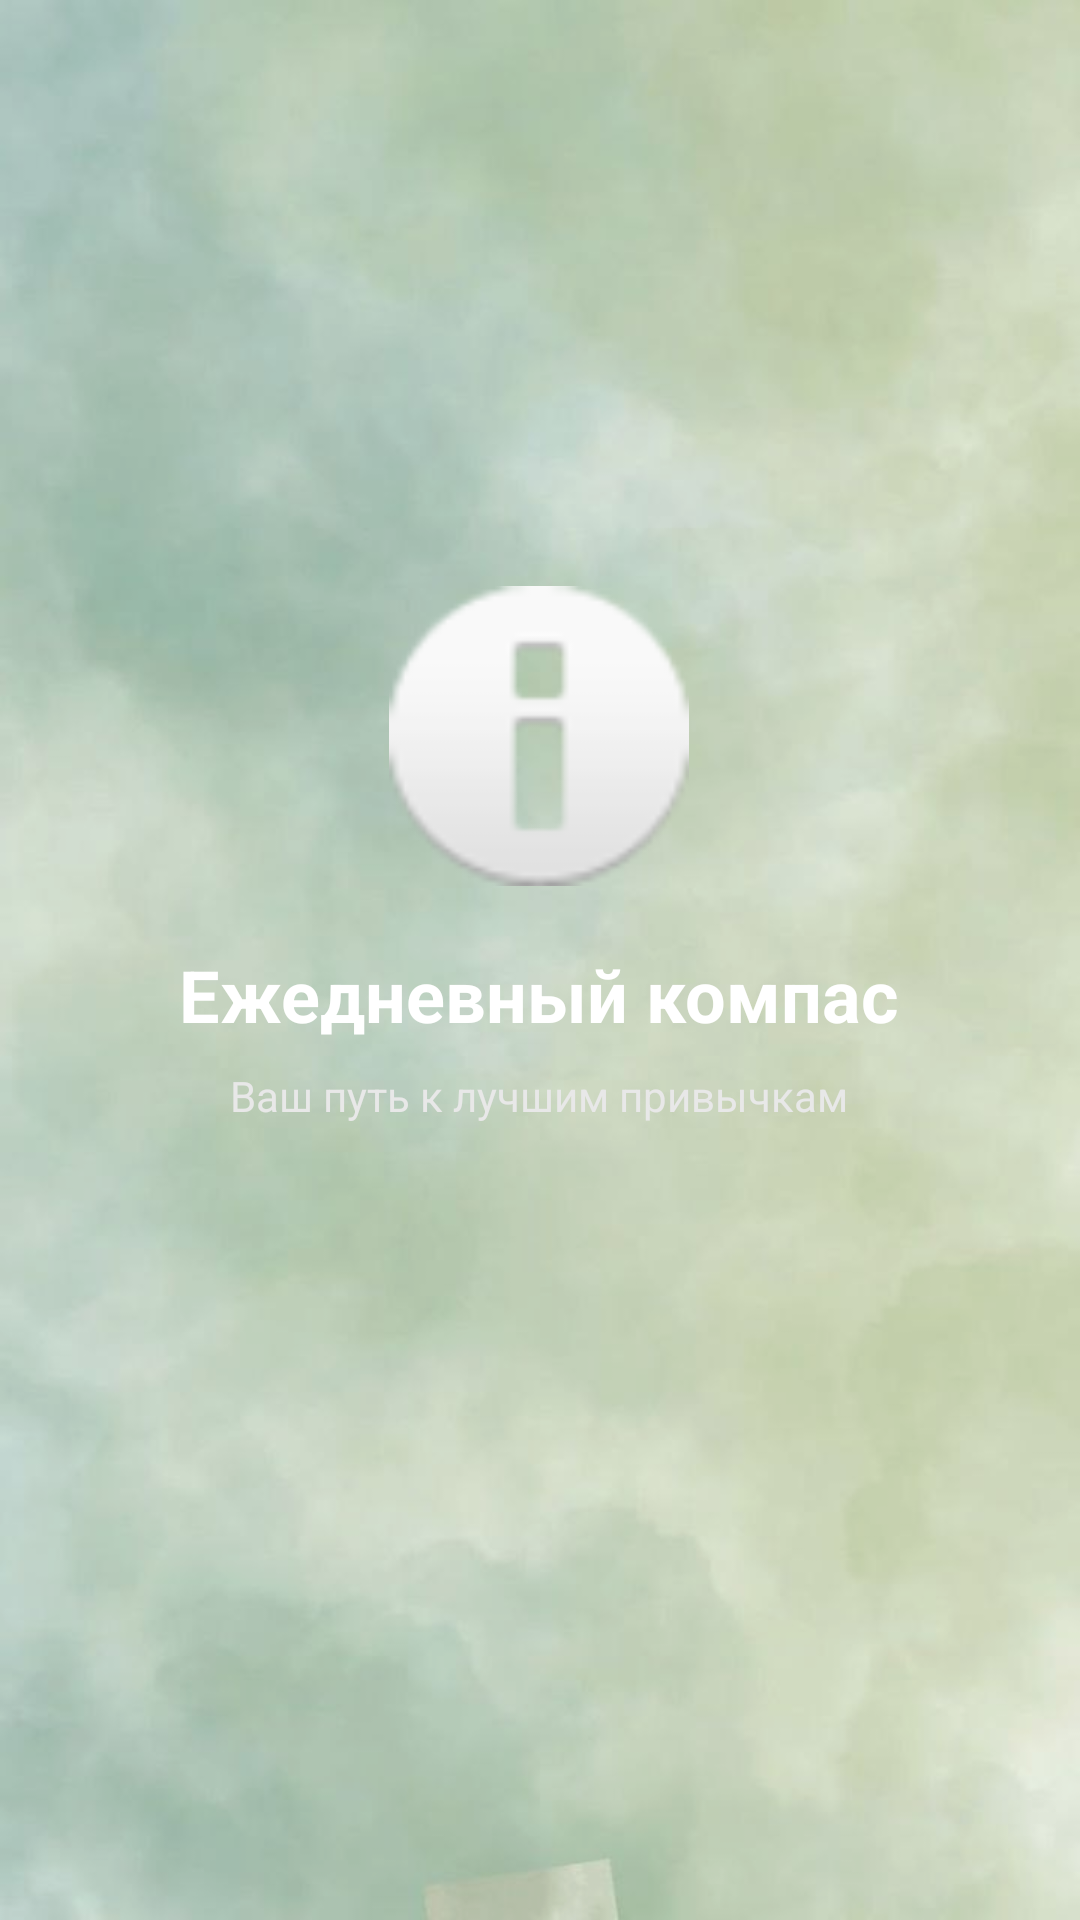

Locate icon controls on the screen. Image size 1080 x 1920, boxes as (x1, y1, x2, y2).
info: (389, 586, 689, 886)
